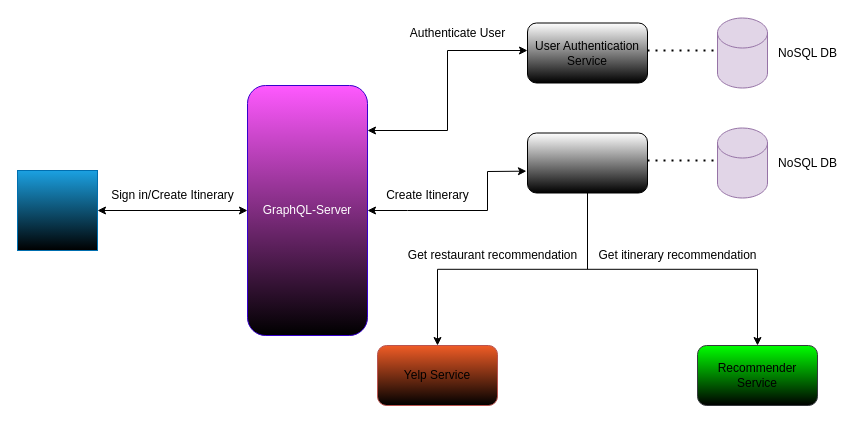
The diagram is 865 pixels wide and 423 high, and some of its shapes have lost their labels. The centre of each missing label's shape, as x and y in pixels:
Core Service: point (587, 162)
Frontend / Client: point (57, 210)
